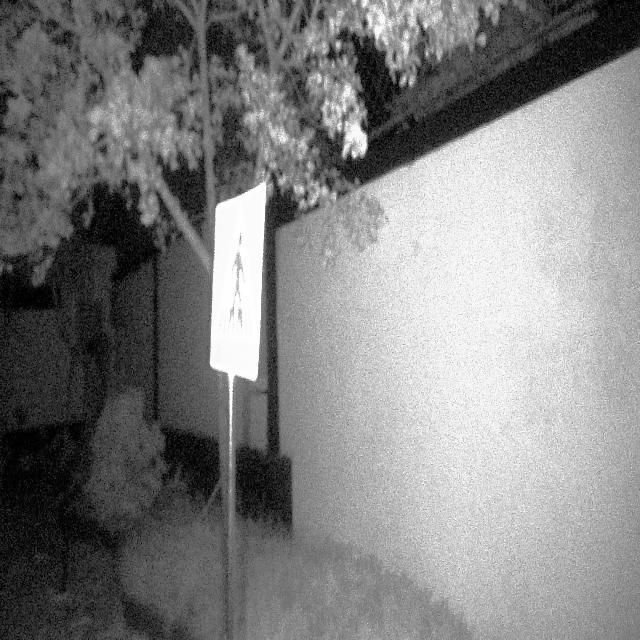Sign: (207, 181, 268, 386)
